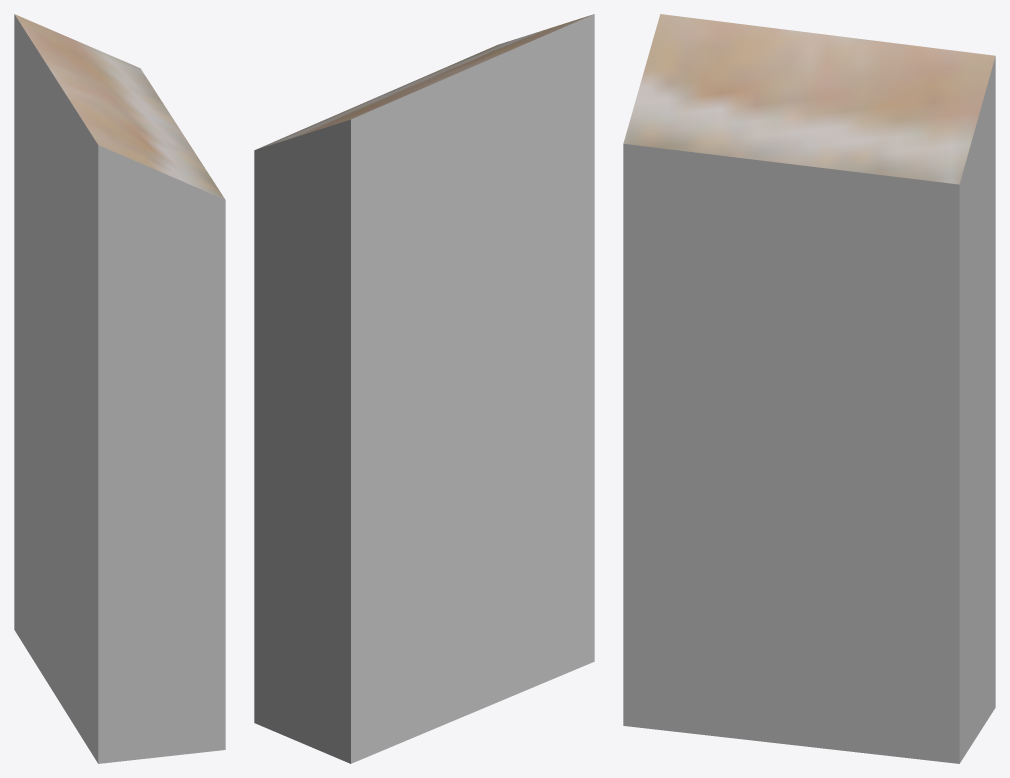
File: DEBW_0010007TI0o.gltf
The picture shows the model from 3 angles, left to right: view 1: azimuth 30°, elevation 25°; view 2: azimuth 150°, elevation 25°; view 3: azimuth 270°, elevation 25°; orthographic projection. The views are drawn at different scales.
Parts seen in each view (by area): view 1: Z_UP; view 2: Z_UP; view 3: Z_UP.
Boxes of the visible parts, x1,y1,x2,y2 form: Z_UP: (14, 14, 225, 763); Z_UP: (254, 14, 594, 763); Z_UP: (623, 14, 995, 763).
Size of the model in its own units: 2.49 by 8.02 by 4.13.
2 materials, 1 textured.
